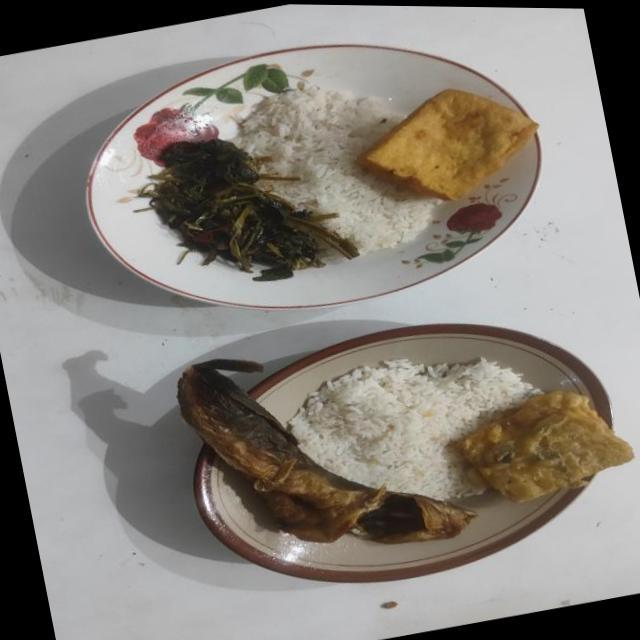nasi_putih: (288, 358, 544, 500), (232, 88, 439, 254)
tahu_goreng: (357, 89, 538, 200)
tumis_kangkung: (138, 139, 360, 281)
